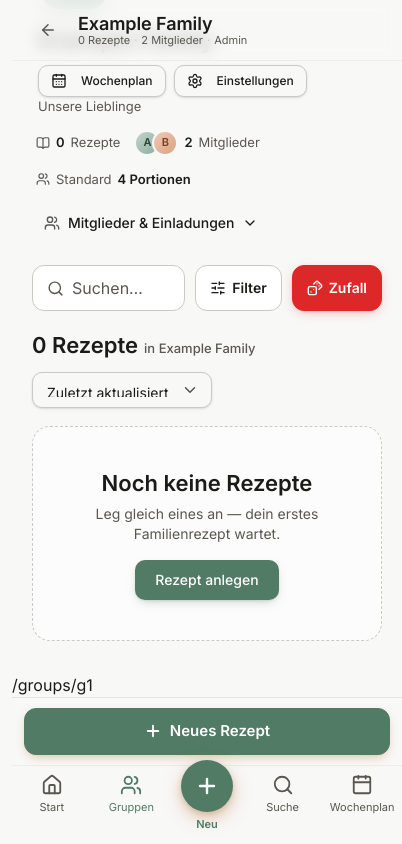
Test: <GroupDetailPage /> › FAB routes to the "new recipe" form
(page scrolled)
Click the link "Neues Rezept" at {"x": 207, "y": 731}, box [24, 708, 390, 755]
(page scrolled)
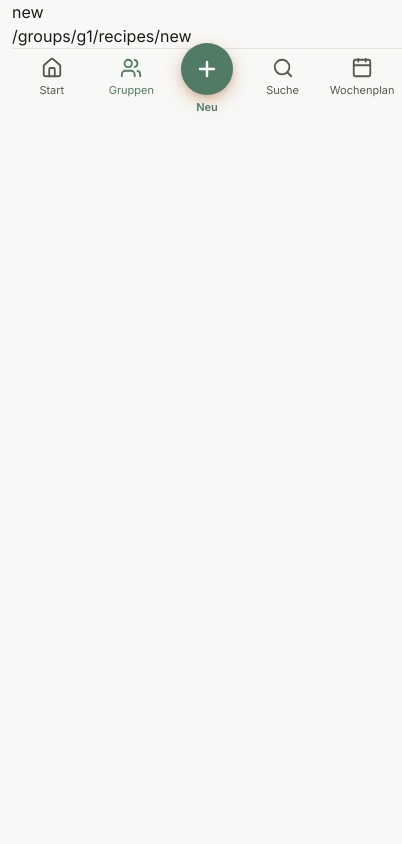
Check: the text with test id "location-probe" reads "/groups/g1/recipes/new", box [12, 26, 192, 46]
